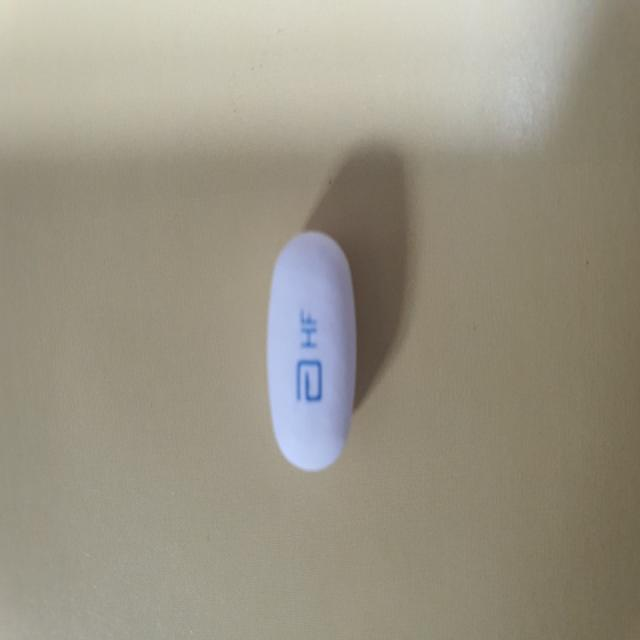pill: (268, 188, 359, 484)
